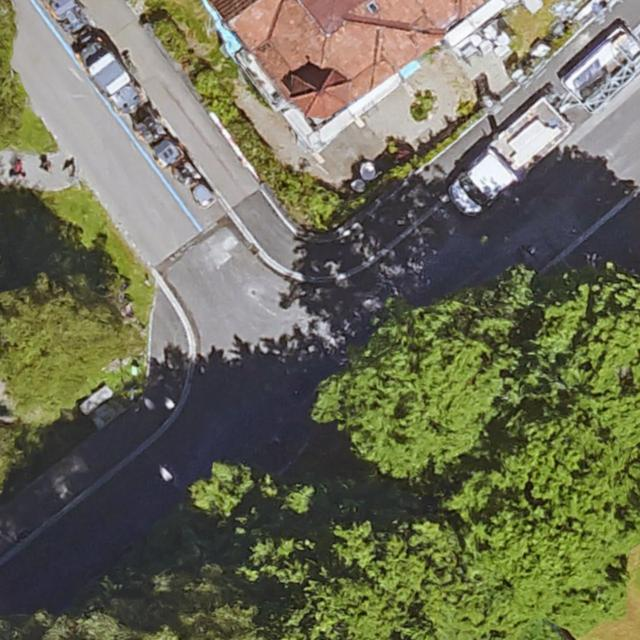tree: (19, 467, 640, 640), (317, 262, 640, 522), (0, 281, 125, 411)
